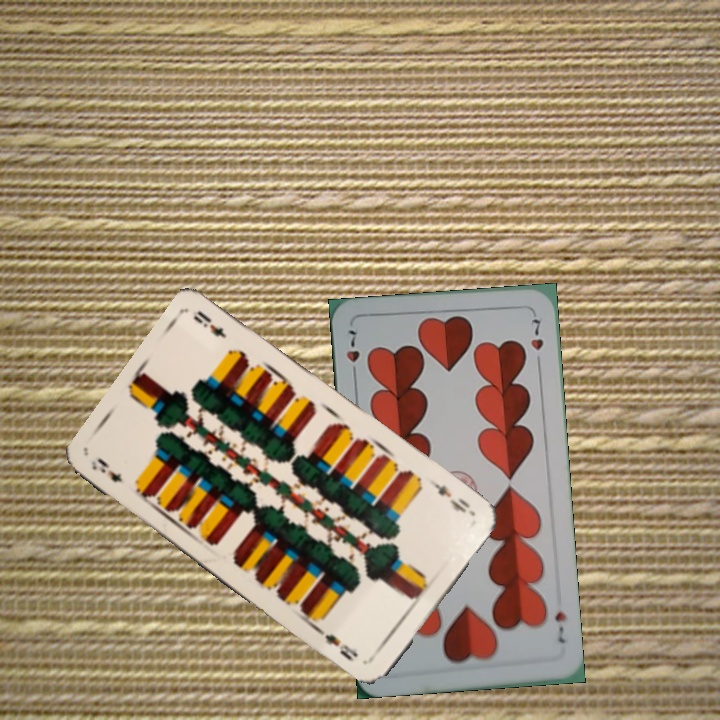E9: (426, 475, 473, 516), (87, 455, 125, 485)
H7: (342, 326, 362, 382), (551, 607, 569, 646)
